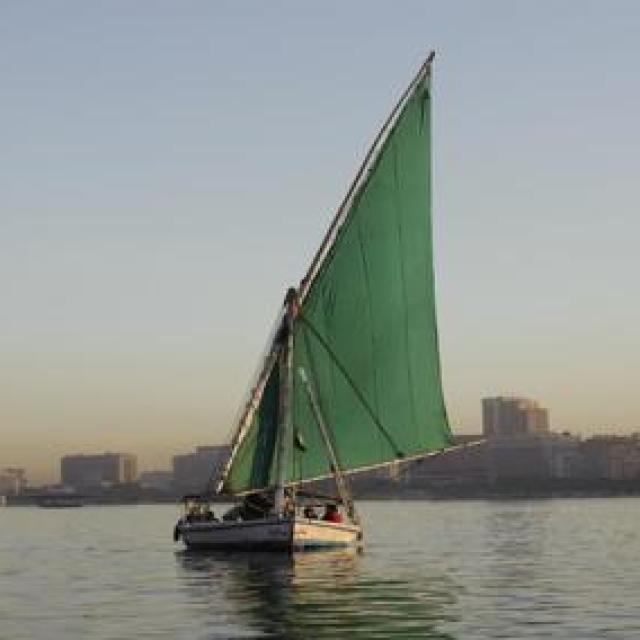sailboat: (150, 41, 477, 548)
